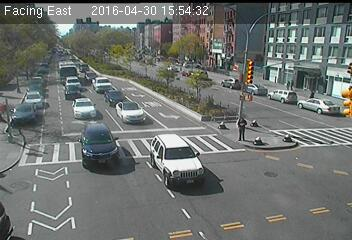neg: (162, 138, 202, 190), (55, 160, 91, 208), (83, 29, 108, 63), (76, 107, 100, 139), (234, 49, 256, 79), (305, 151, 326, 179), (280, 32, 300, 59), (251, 185, 271, 212), (164, 61, 184, 87), (278, 113, 297, 139), (37, 29, 54, 52), (65, 69, 76, 84), (27, 85, 35, 95)
pos: (234, 115, 254, 142)
